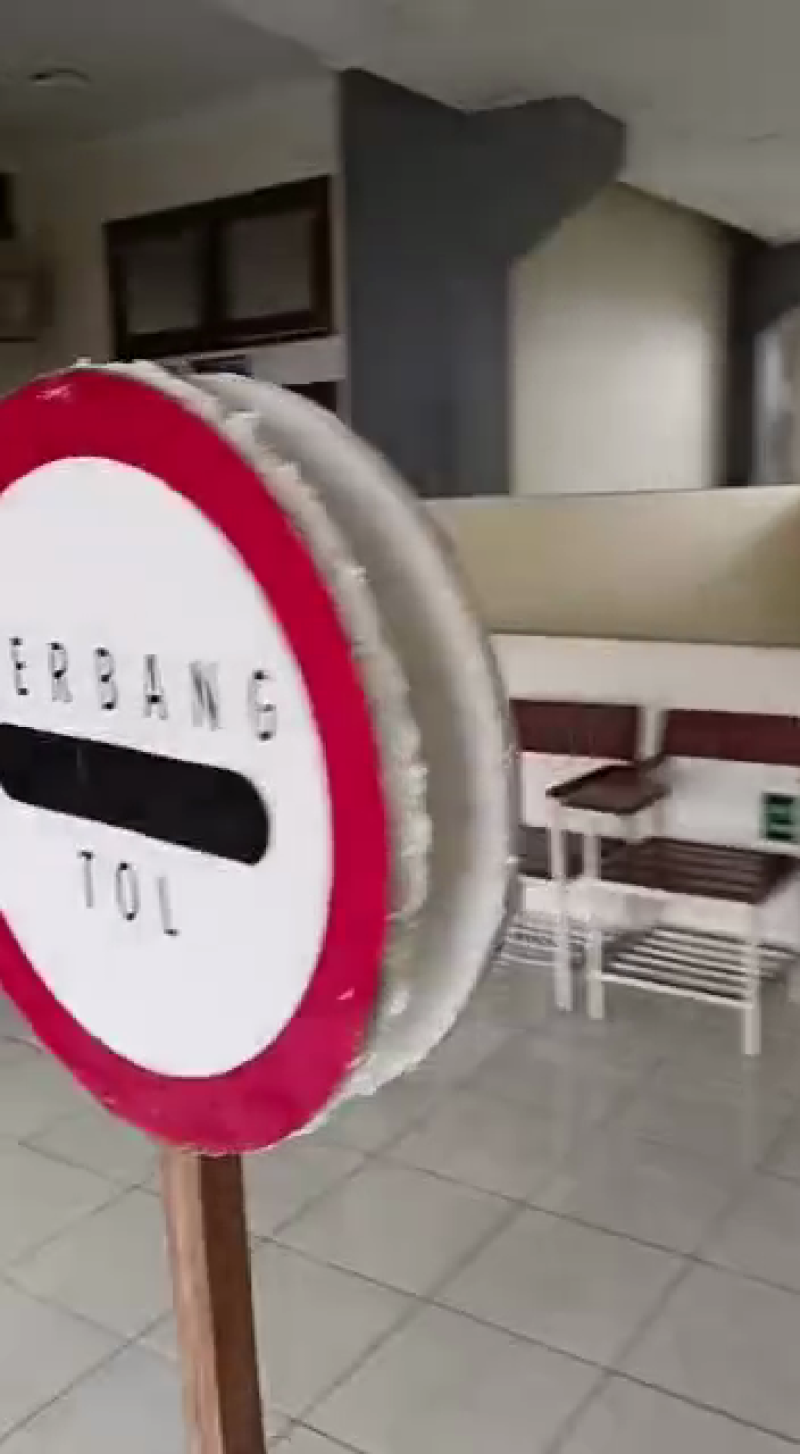gerbang tol: (1, 322, 408, 1179)
